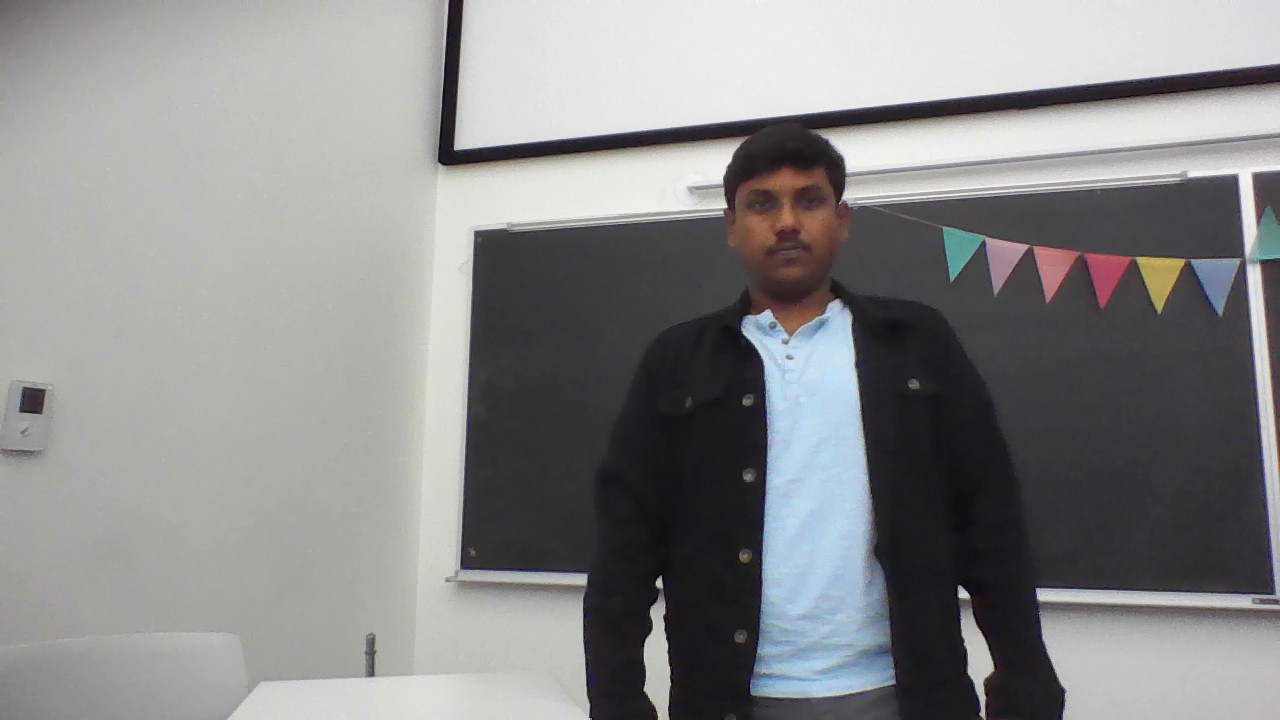height_frame: (580, 112, 1083, 717)
hip_frame: (673, 682, 976, 706)
shoulder_frame: (642, 333, 957, 366)
waist_frame: (665, 570, 961, 608)
